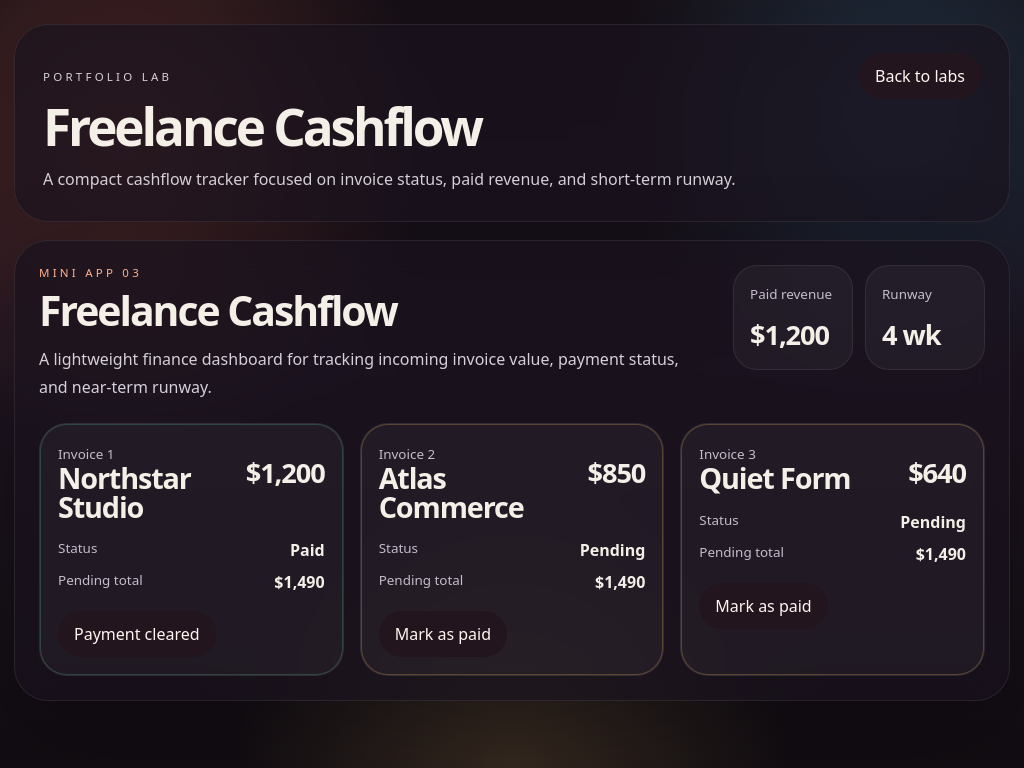
Test: Portfolio Labs app › updates freelance cashflow totals after marking an invoice as paid
Expected: the text "$1,490" below "Northstar Studio" is shown, x1=274 y1=571 x2=325 y2=593
What coordinates should you click on to do the following:
click the button "Mark as paid" below "Atlas Commerce"
I would click on:
 (443, 634)
Its box is x1=379 y1=611 x2=507 y2=657.
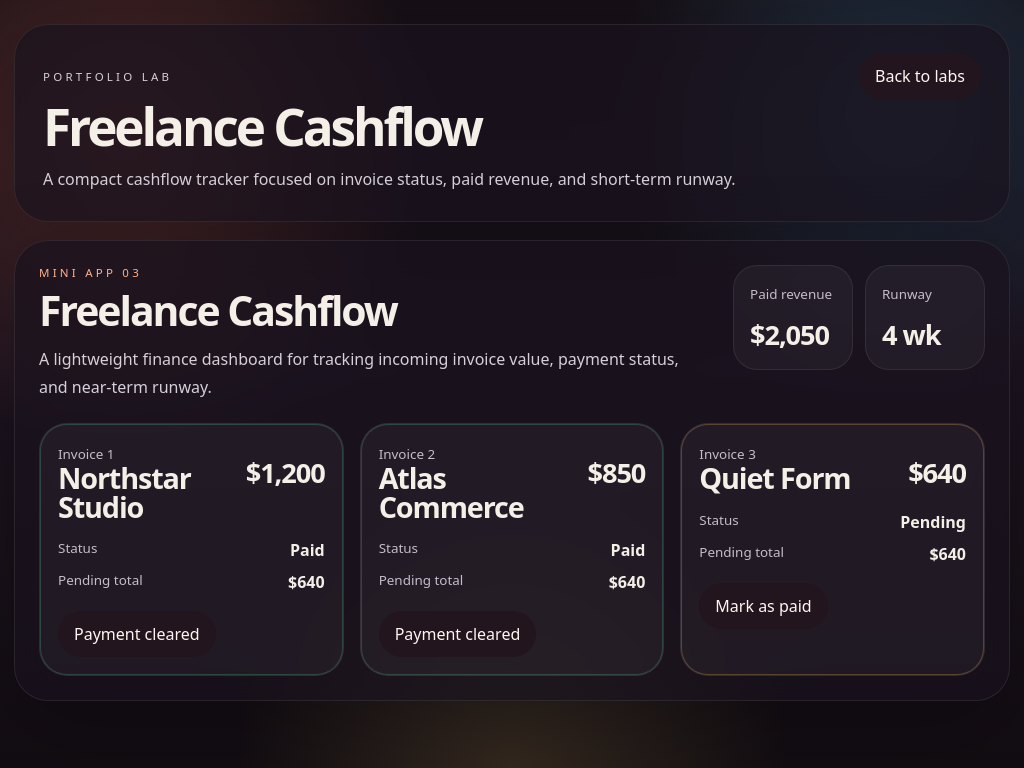
Expected: the text "Paid" below "Northstar Studio" is shown, x1=290 y1=539 x2=325 y2=561
Result: the text "$2,050" is shown at x1=750 y1=316 x2=836 y2=353
Result: the text "$640" below "Northstar Studio" is shown at x1=288 y1=571 x2=325 y2=593
